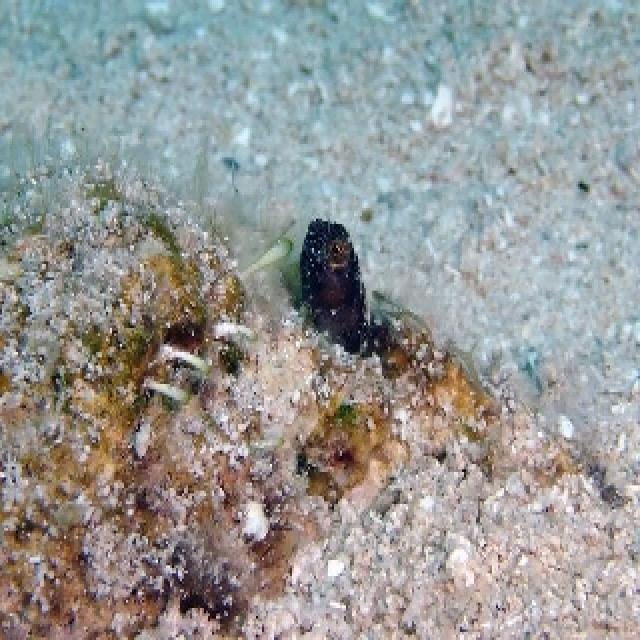reefs: (299, 215, 374, 359)
